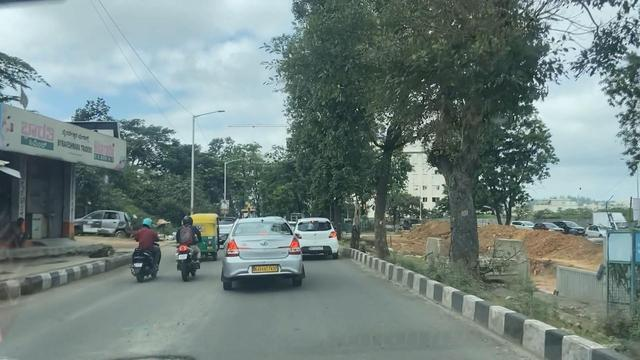LMV: (233, 219, 291, 285), (135, 215, 158, 280), (301, 221, 337, 257), (179, 217, 199, 280)
RoadDamages: (124, 348, 202, 360)
